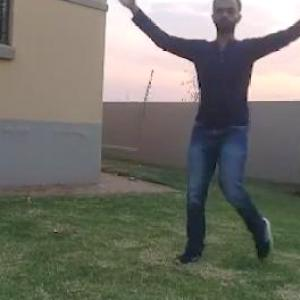takeoff: (126, 0, 299, 275)
